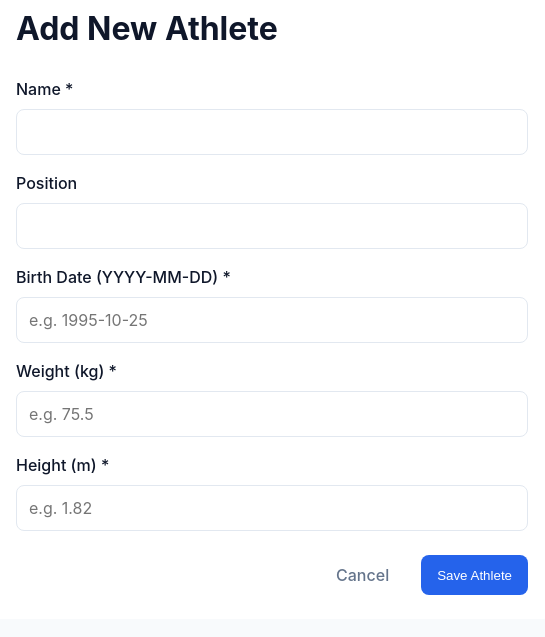
it: AthleteCreatePage › handles 422 field errors from API
Type "John Doe" into the field labelled "Name *" at (272, 132), box [16, 109, 528, 155]
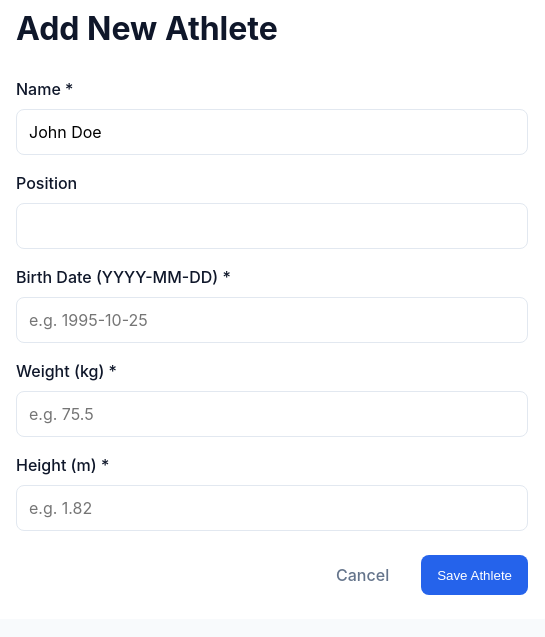
Type "1995-10-25" into the field labelled "Birth Date (YYYY-MM-DD) *" at (272, 320), box [16, 297, 528, 343]
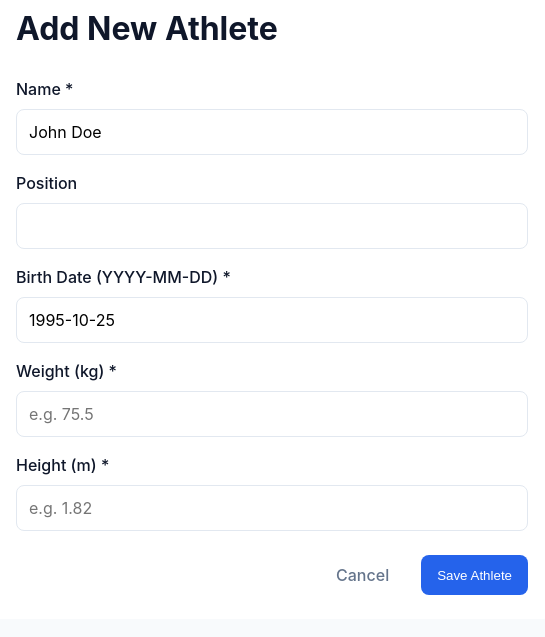
Type "75.5" into the field labelled "Weight (kg) *" at (272, 414), box [16, 391, 528, 437]
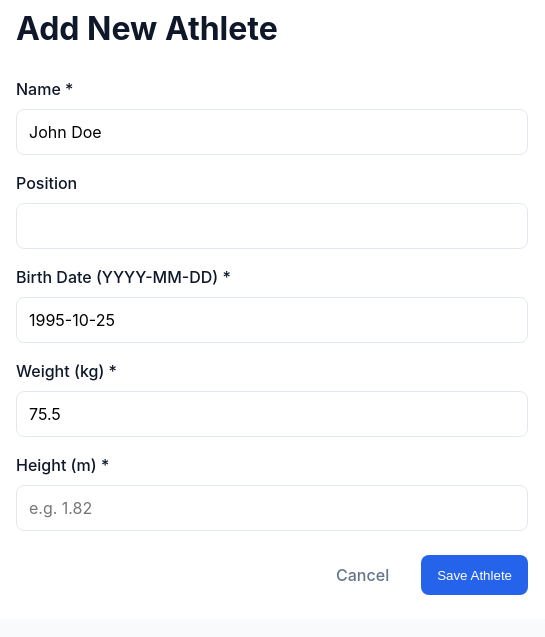
Type "1.82" into the field labelled "Height (m) *" at (272, 508), box [16, 485, 528, 531]
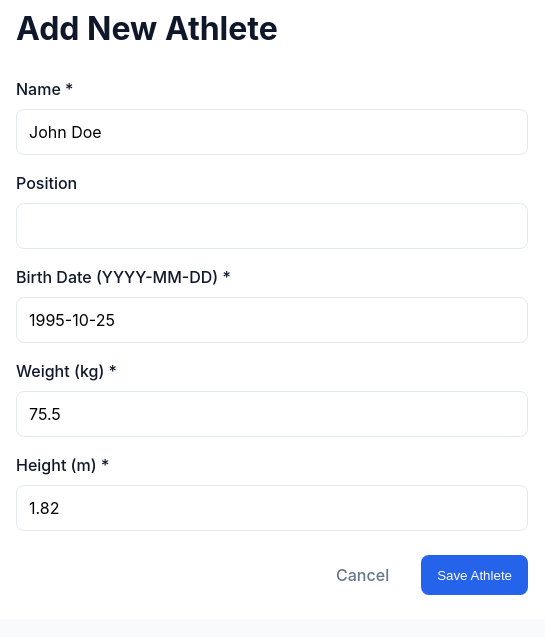
Click the button "Save Athlete" at (475, 575), box [421, 555, 528, 595]
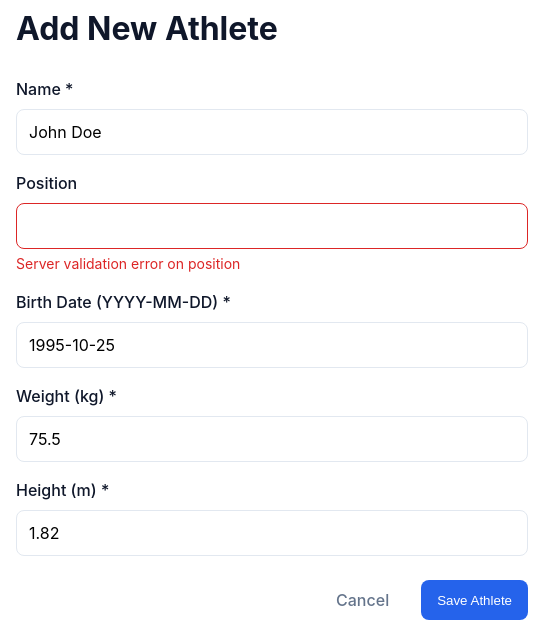
Check: the text "Server validation error on position" is shown, box [16, 255, 240, 272]
